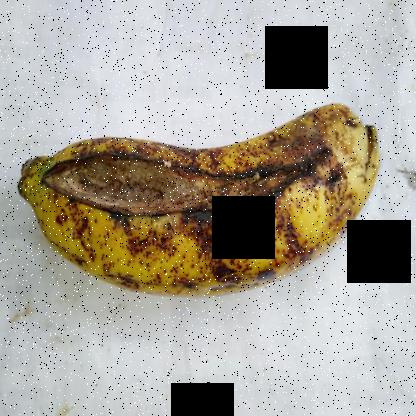rotten: (55, 132, 348, 239)
